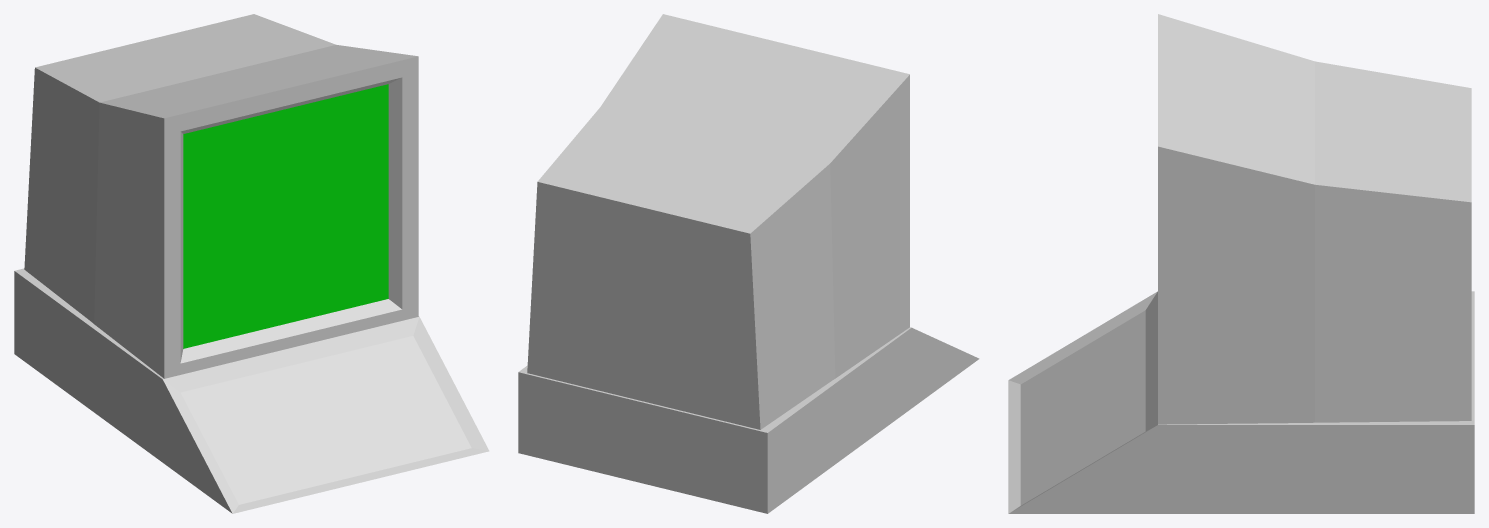
Rendered from Computer.fbx.
3 renders of one model, left to right at view 1: azimuth 30°, elevation 25°; view 2: azimuth 150°, elevation 25°; view 3: azimuth 270°, elevation 25°, orthographic. The views are drawn at different scales.
Visible parts, largest first — view 1: Cube.001; view 2: Cube.001; view 3: Cube.001.
Boxes of the visible parts, x1,y1,x2,y2 form: Cube.001: (14, 14, 489, 513); Cube.001: (518, 14, 979, 513); Cube.001: (1008, 14, 1474, 513).
Size of the model in its own units: 164 by 210 by 242.
